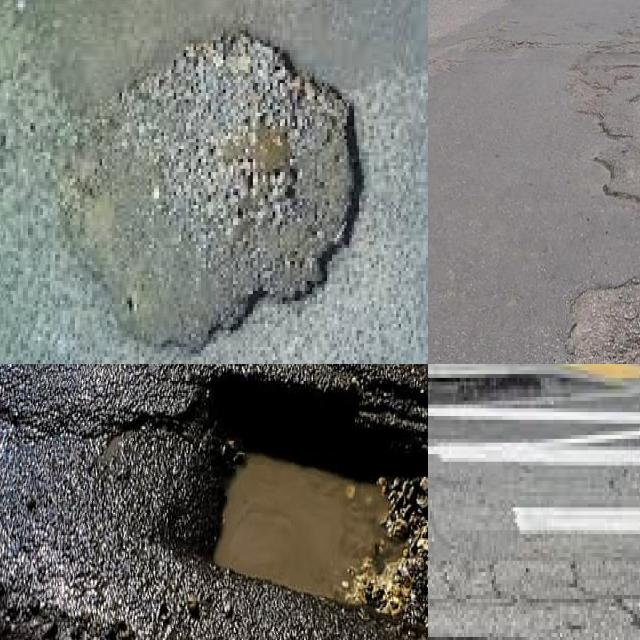Pothole: (58, 30, 364, 357), (428, 0, 640, 364), (156, 367, 428, 611), (566, 270, 640, 364)
